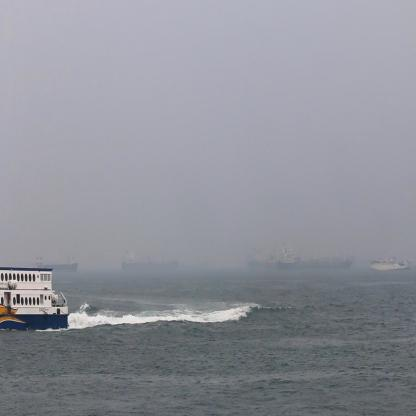Container Ship: (277, 245, 356, 269), (121, 250, 181, 270), (372, 254, 412, 271), (35, 256, 81, 269), (247, 246, 267, 270), (267, 254, 276, 270)
